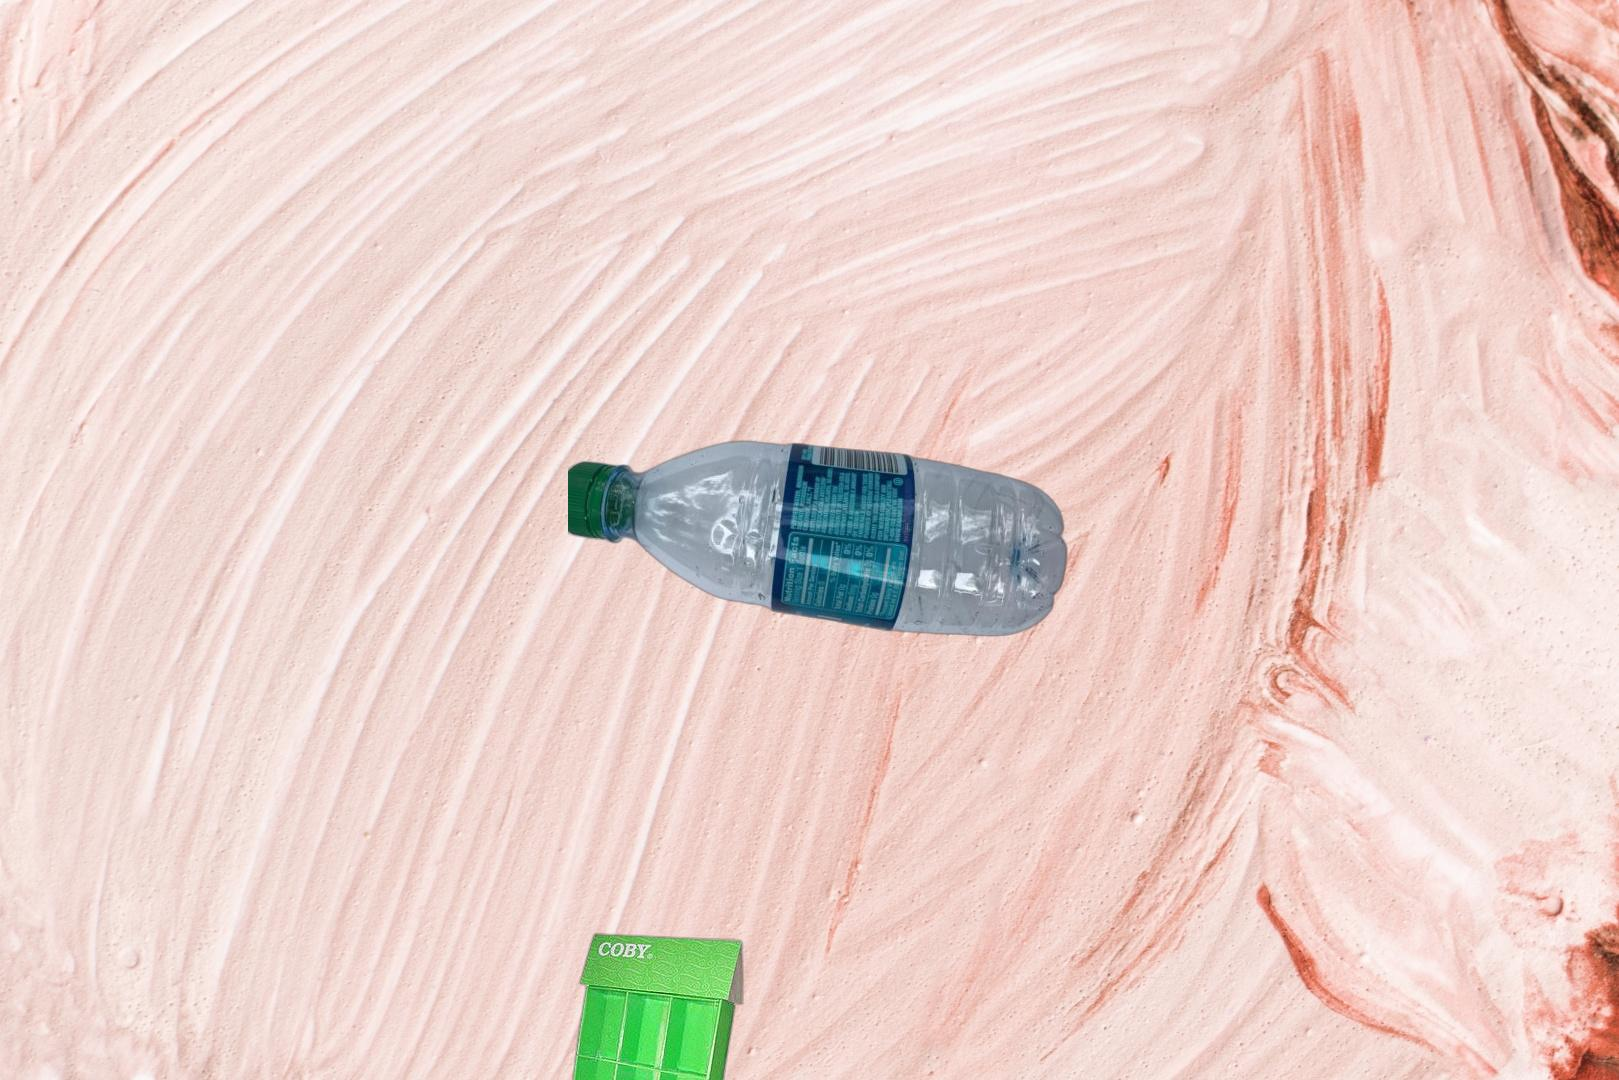plastic-bottles: (568, 438, 1070, 638)
trashbox-cardboard: (555, 929, 747, 1080)
